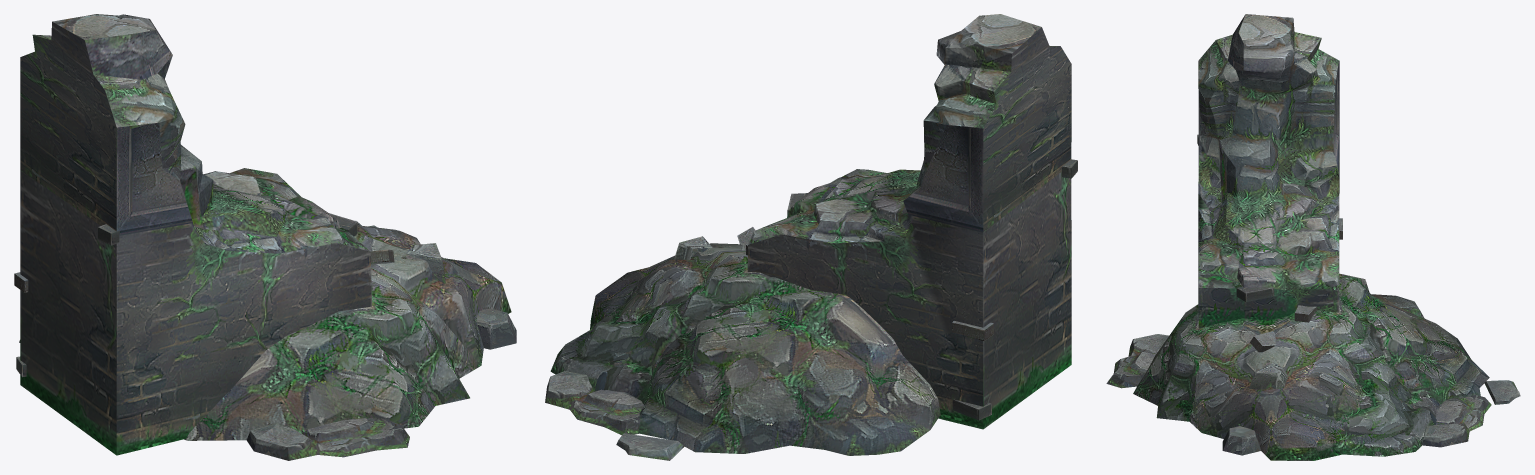
The model's file is Ruins_5.FBX.
The picture shows the model from 3 angles, left to right: view 1: azimuth 30°, elevation 25°; view 2: azimuth 150°, elevation 25°; view 3: azimuth 270°, elevation 25°; orthographic projection. The views are drawn at different scales.
Visible parts, largest first — view 1: Ruins_5_A; view 2: Ruins_5_A; view 3: Ruins_5_A.
Part boxes in pixels (<box>): Ruins_5_A: <box>14,14,516,460</box>; Ruins_5_A: <box>545,14,1077,460</box>; Ruins_5_A: <box>1106,14,1520,460</box>.
Bounding box in the file's own units: 166 × 137 × 179.
